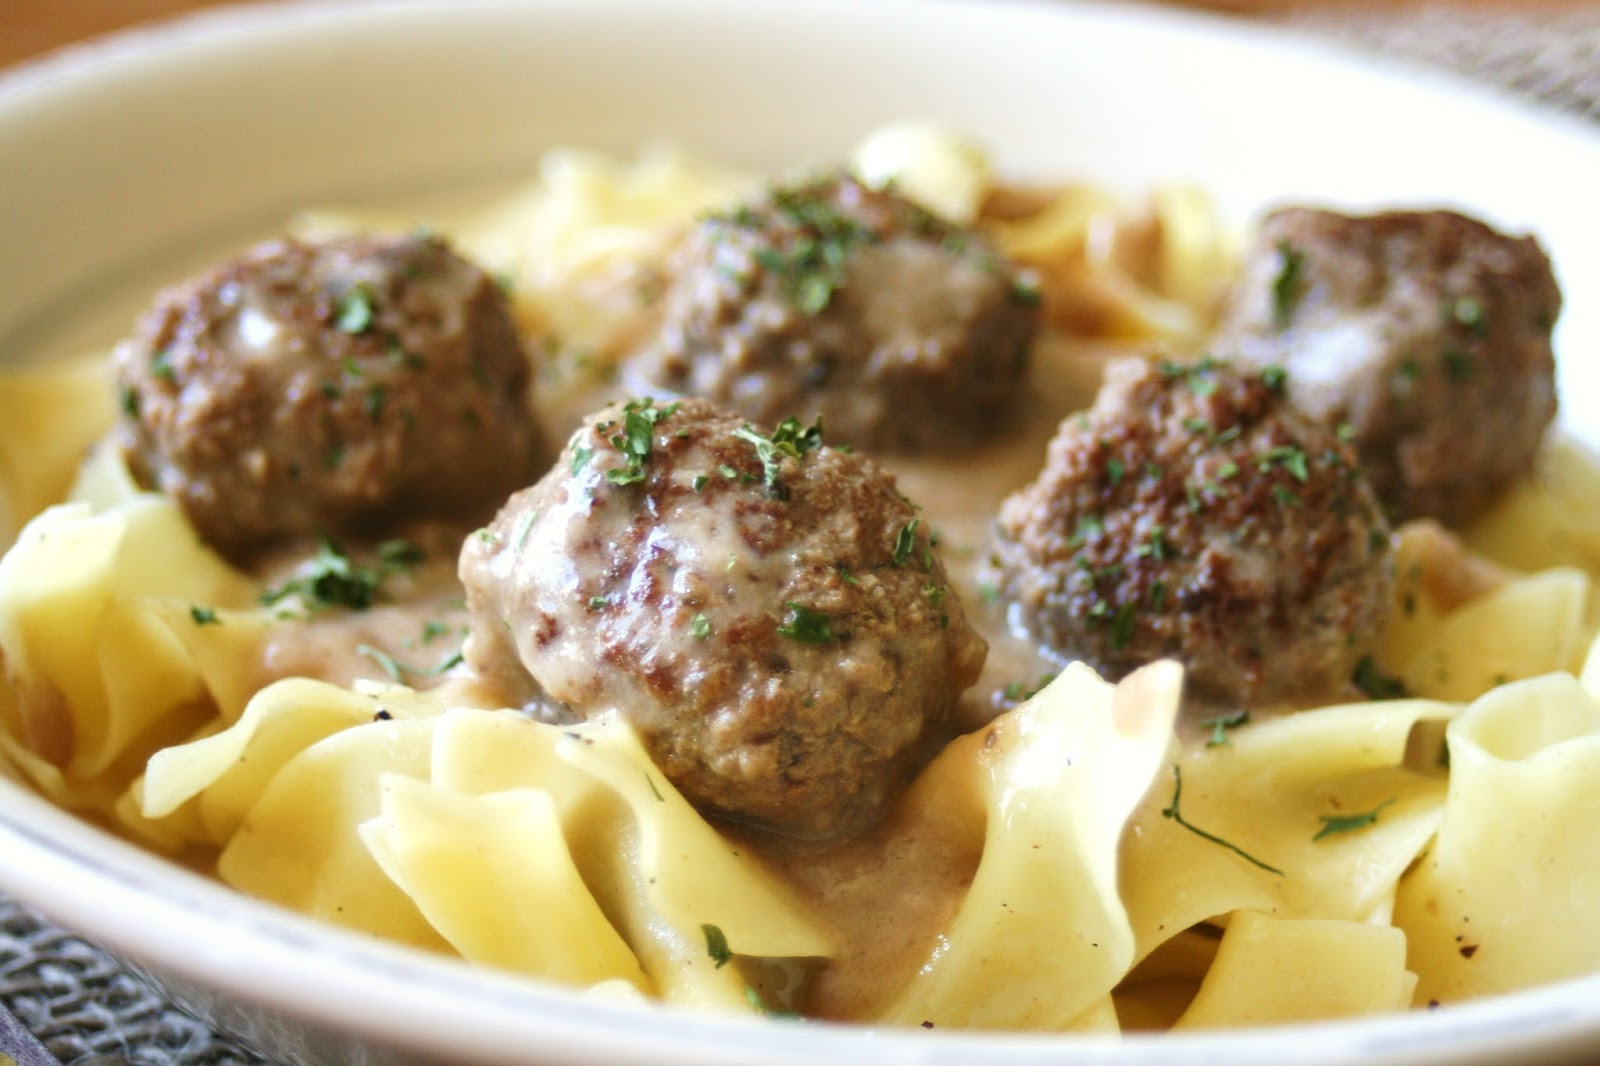meatballs: (477, 396, 998, 830), (998, 355, 1432, 711), (1210, 164, 1581, 509), (645, 131, 1052, 444), (142, 222, 542, 529)
plain spaghetti: (19, 128, 1592, 1020)
